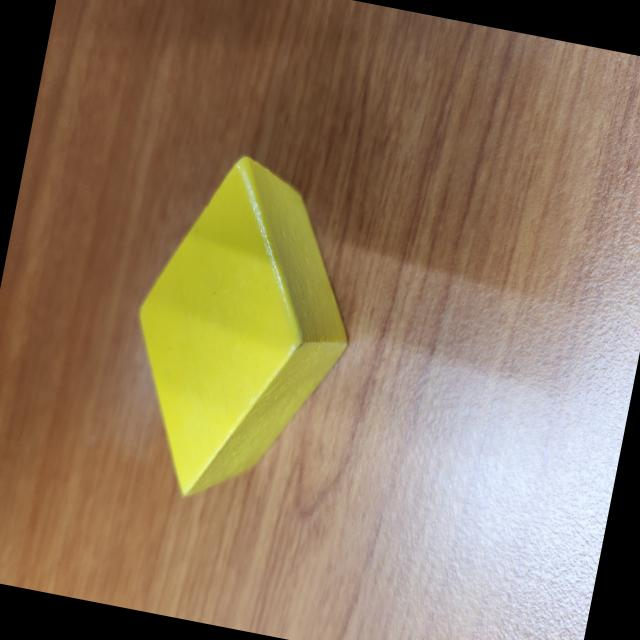yellow: (104, 141, 381, 524)
